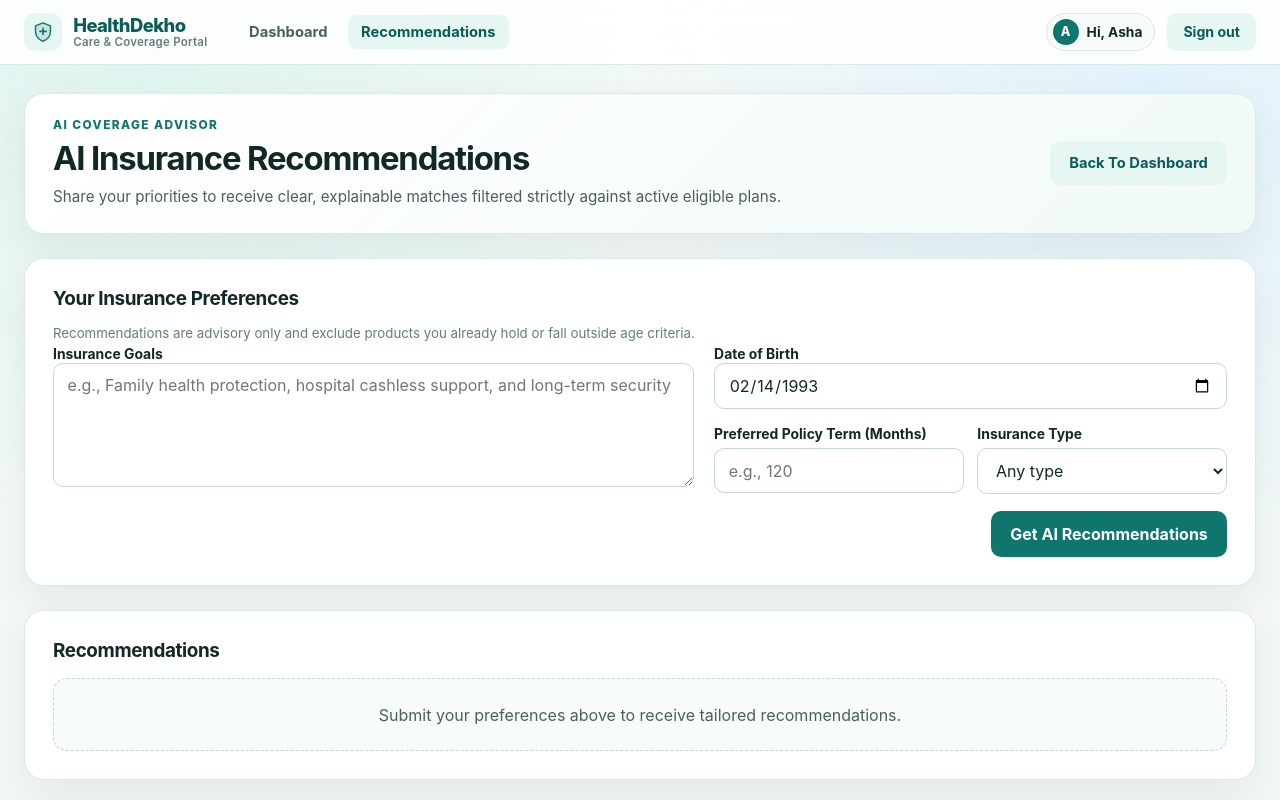
Test case: FR-1, FR-2 & FR-3 authentication, dashboard, recommendations, and policy registration flow › submits preferences on RecommendationsPage, displays recommendations + history, and registers via FR-3 flow
The image size is (1280, 800).
Expected: the heading "AI Insurance Recommendations" is shown, [53,138,529,178]
Expected: the date field labelled "Date of Birth" holds "1993-02-14", [714,364,1227,409]
Replace the text in the text box labelled "Insurance Goals" with "Family Protection": (374, 425) [53,364,694,487]
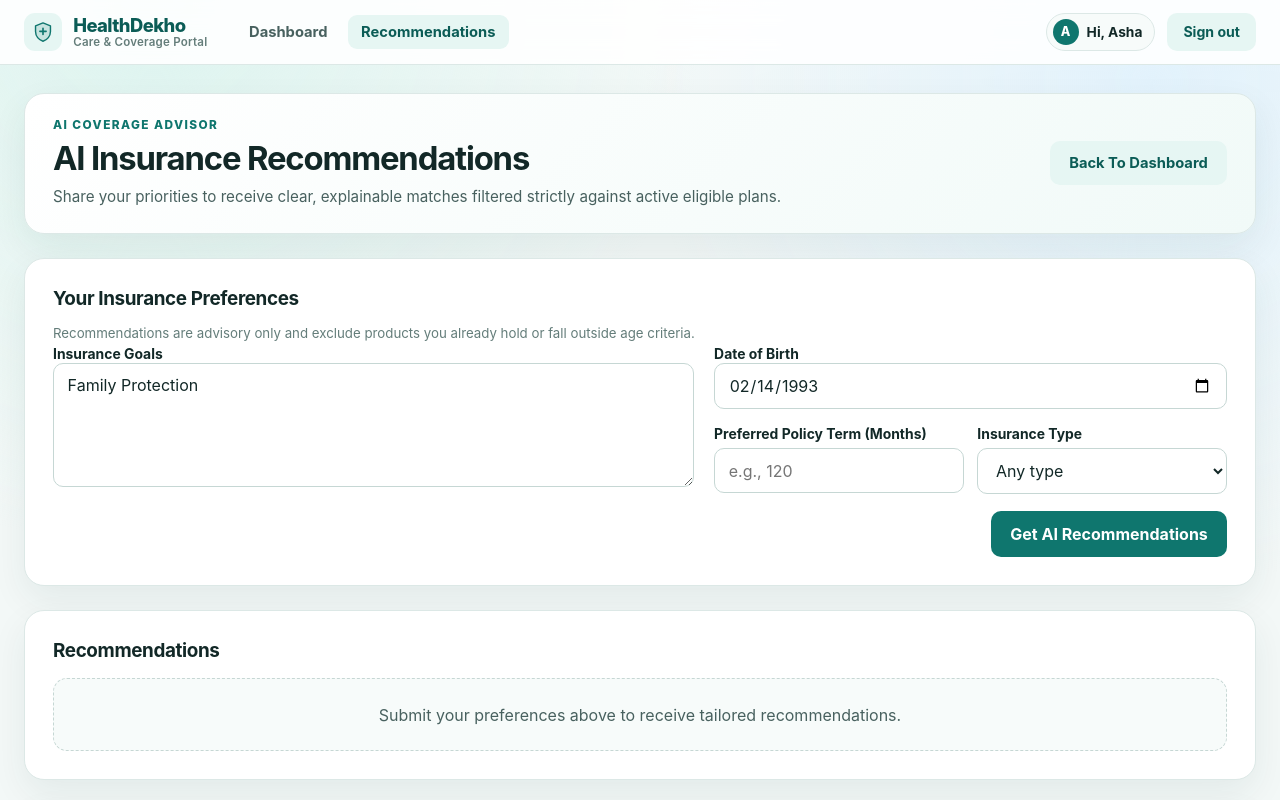
In the number field labelled "Preferred Policy Term (Months)": (839, 471) [714,448,964,493], type "120"
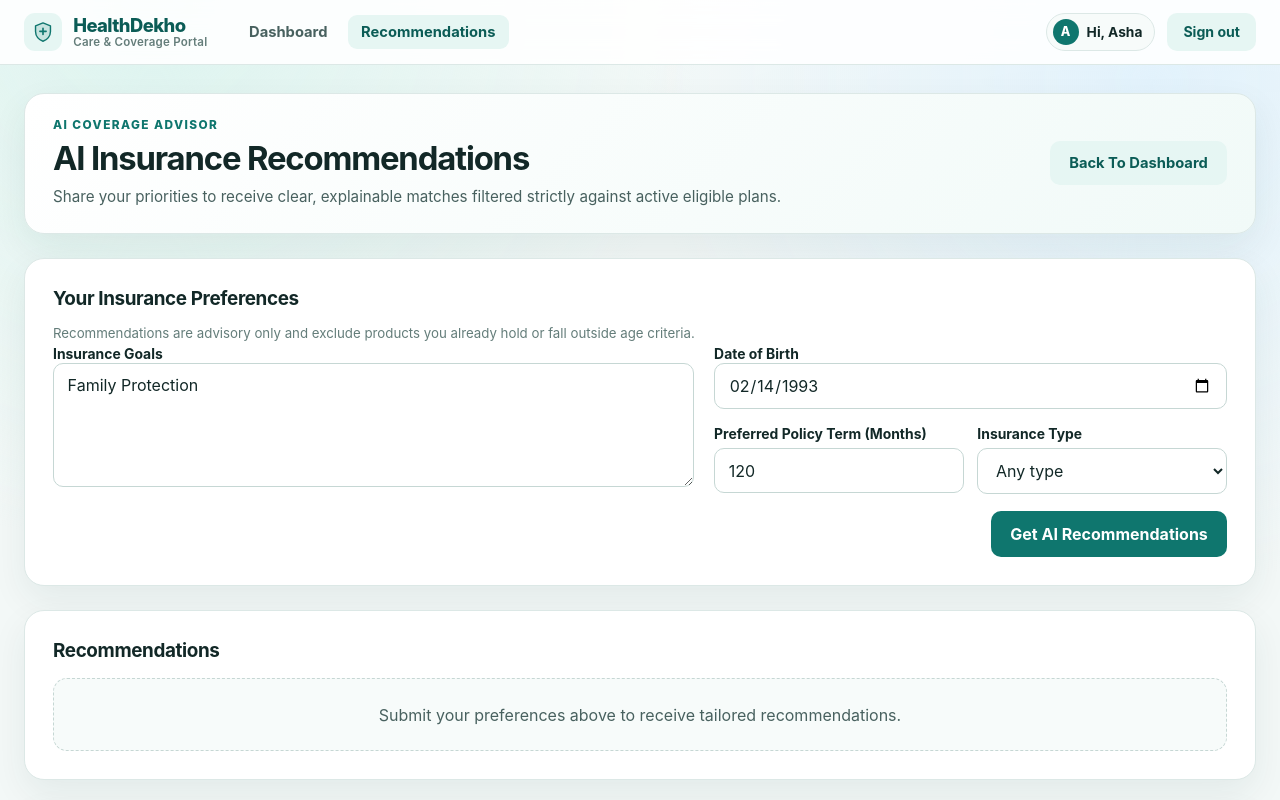
Select "LIFE" in the dropdown labelled "Insurance Type": (1102, 471) [977,448,1227,494]
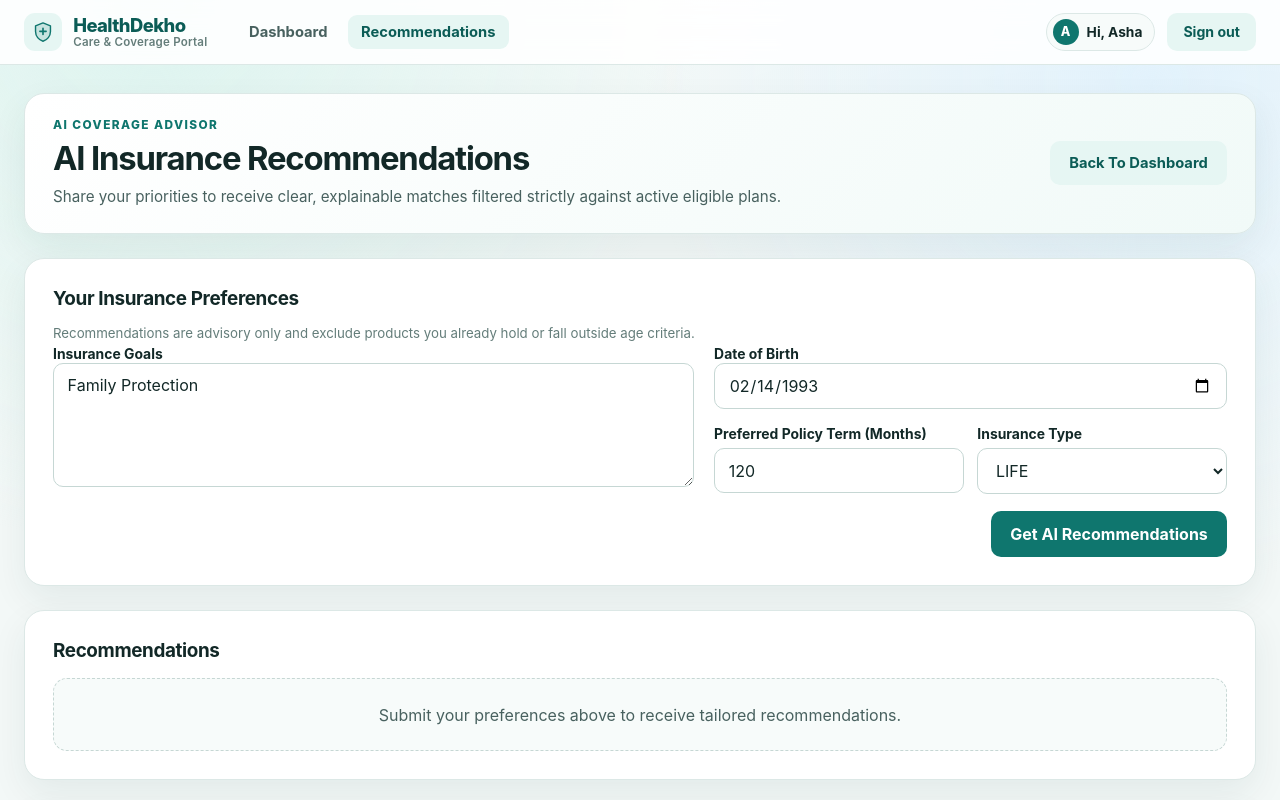
Click the button "Get AI Recommendations": (1109, 534) [991,511,1227,557]
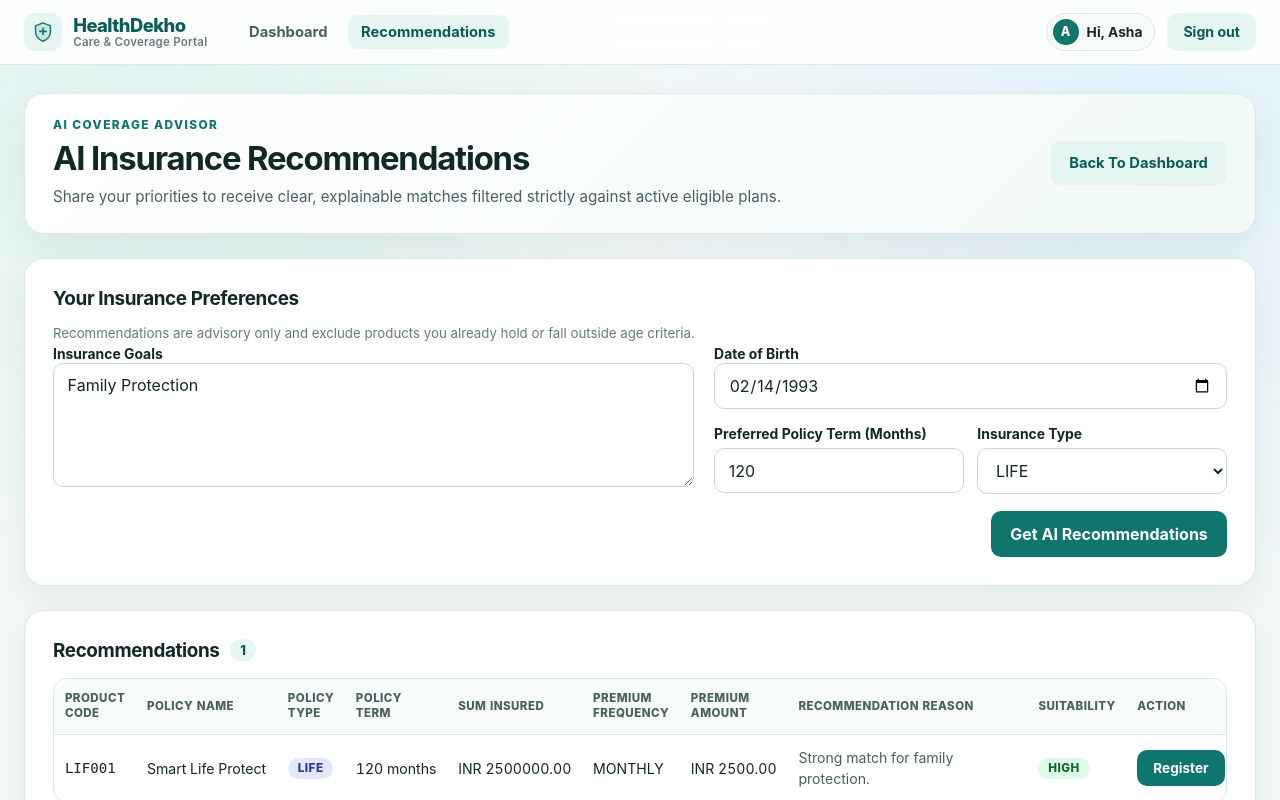
Result: the column heading "Premium Frequency" is shown at [582,679,680,734]
Click the button "Register": (1181, 768) [1137,750,1224,786]
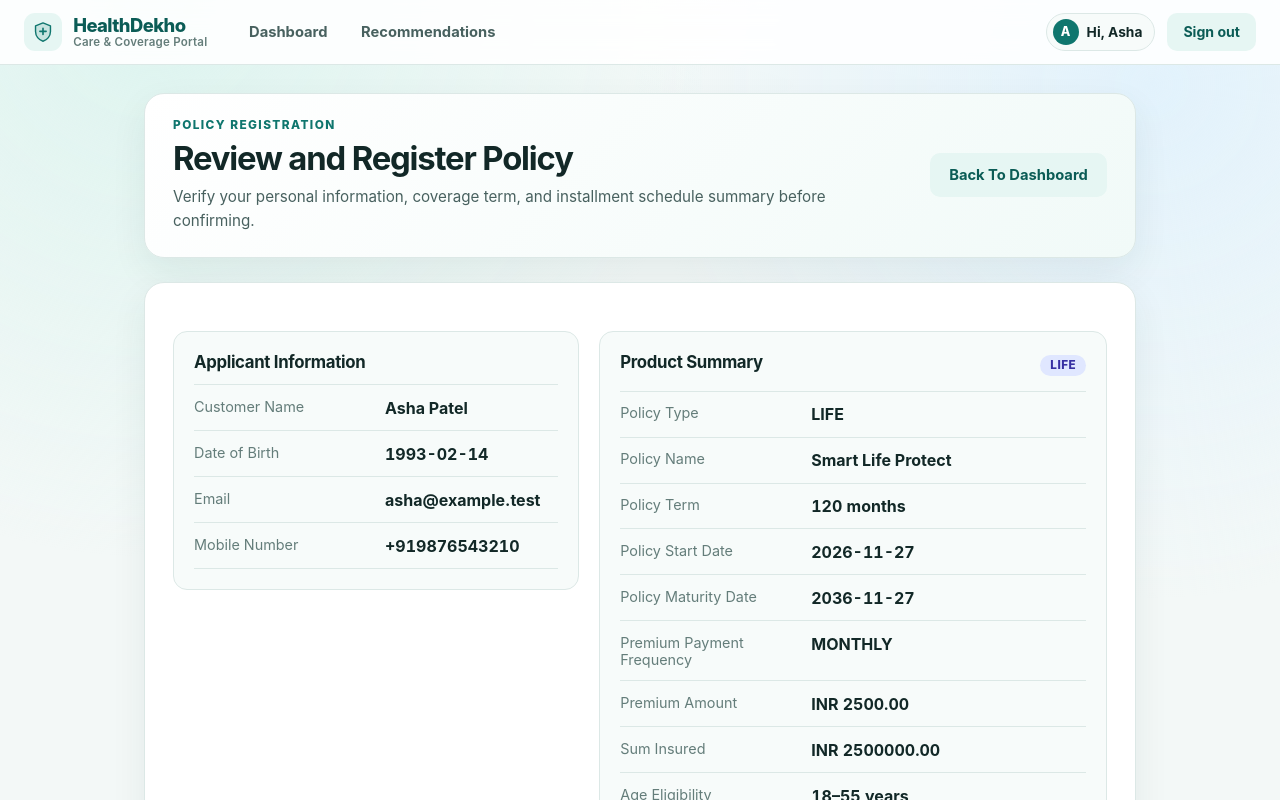
Result: the text "Smart Life Protect" is shown at [811,450,952,470]
Result: the heading "Review and Register Policy" is shown at [173,138,573,178]
